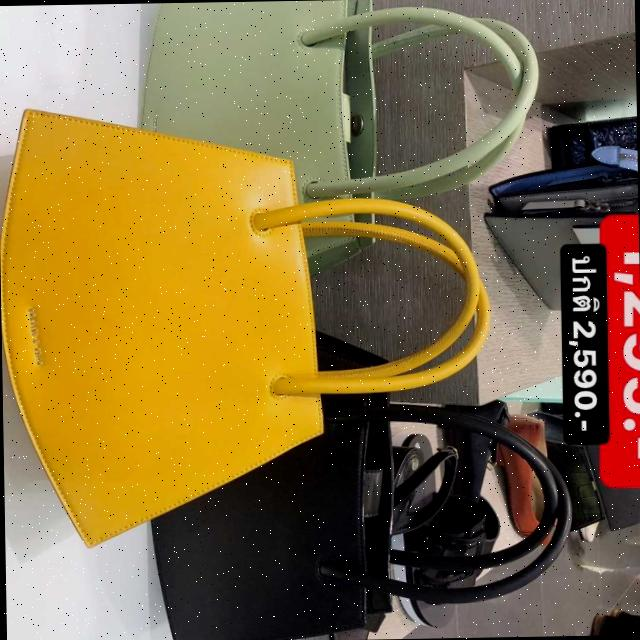handbag: (0, 77, 371, 565)
